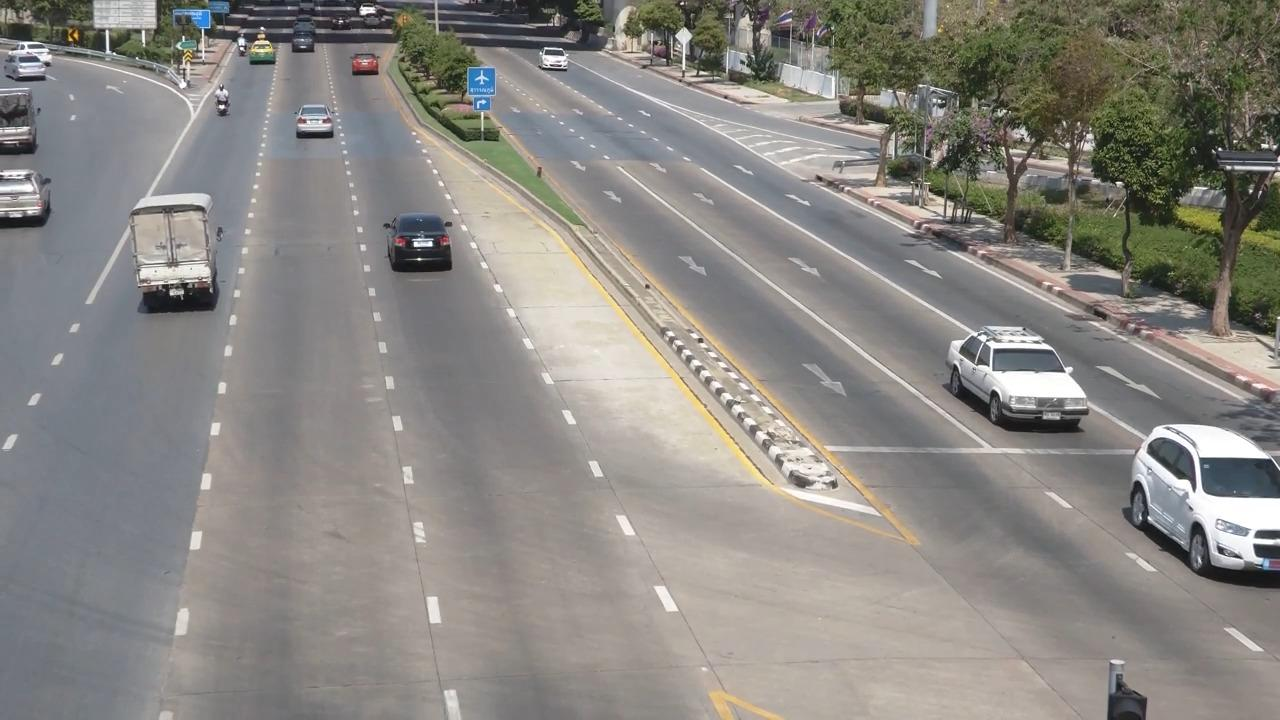CAR: (1115, 410, 1280, 588), (937, 303, 1097, 431), (117, 177, 231, 333), (381, 205, 464, 285), (0, 165, 56, 232), (0, 85, 49, 155), (289, 100, 346, 149), (48, 38, 93, 79), (346, 48, 388, 87), (4, 48, 47, 86), (533, 39, 574, 75), (245, 35, 282, 72), (322, 9, 360, 45), (285, 40, 322, 71), (288, 35, 327, 62), (287, 17, 322, 45)
MOTOR: (206, 76, 234, 129)
